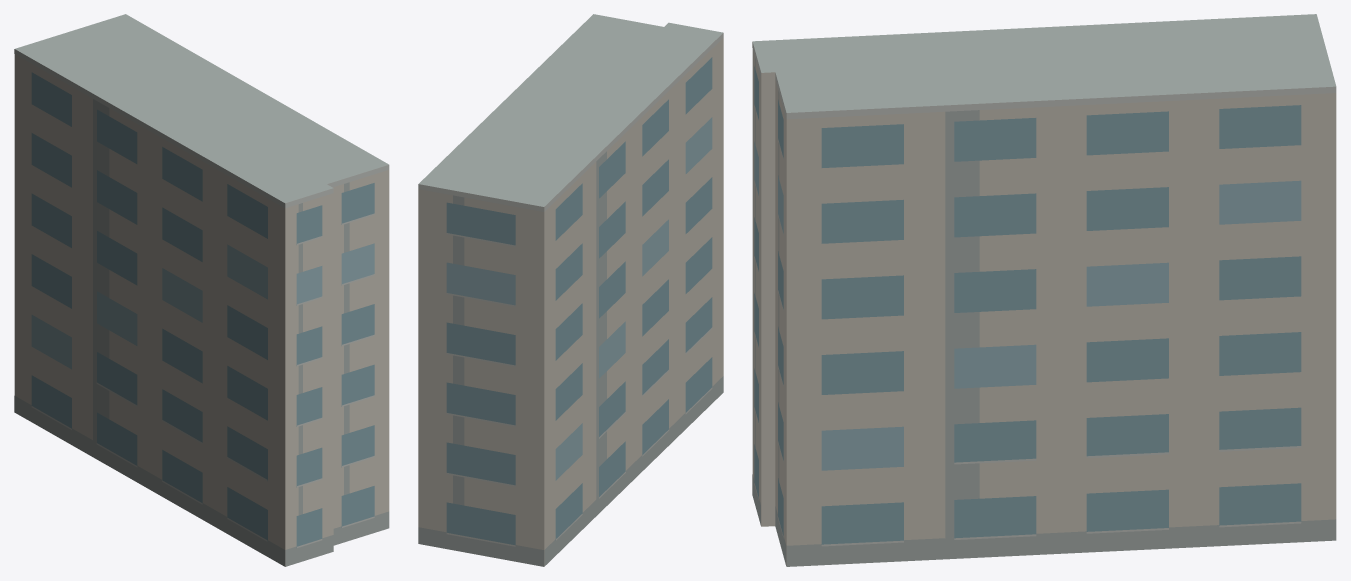
File: survey-upis-33011994.glb
3 renders of one model, left to right at view 1: azimuth 30°, elevation 25°; view 2: azimuth 150°, elevation 25°; view 3: azimuth 270°, elevation 25°, orthographic. The views are drawn at different scales.
Visible parts, largest first — view 1: survey-upis-33011994.tmp; view 2: survey-upis-33011994.tmp; view 3: survey-upis-33011994.tmp.
Part boxes in pixels (x1,y1,x2,y2): survey-upis-33011994.tmp: [14, 14, 389, 566]; survey-upis-33011994.tmp: [418, 14, 723, 566]; survey-upis-33011994.tmp: [752, 14, 1336, 566].
Size of the model in its own units: 8.2 by 17.5 by 20.42.
